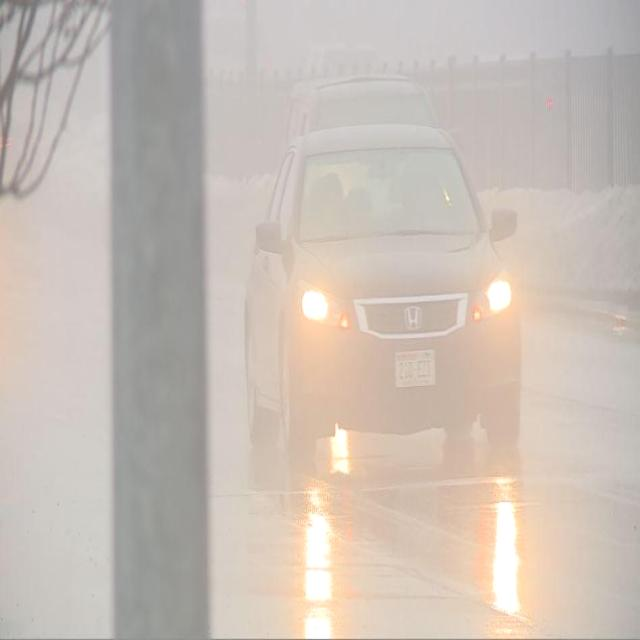Car: (229, 66, 539, 548)
